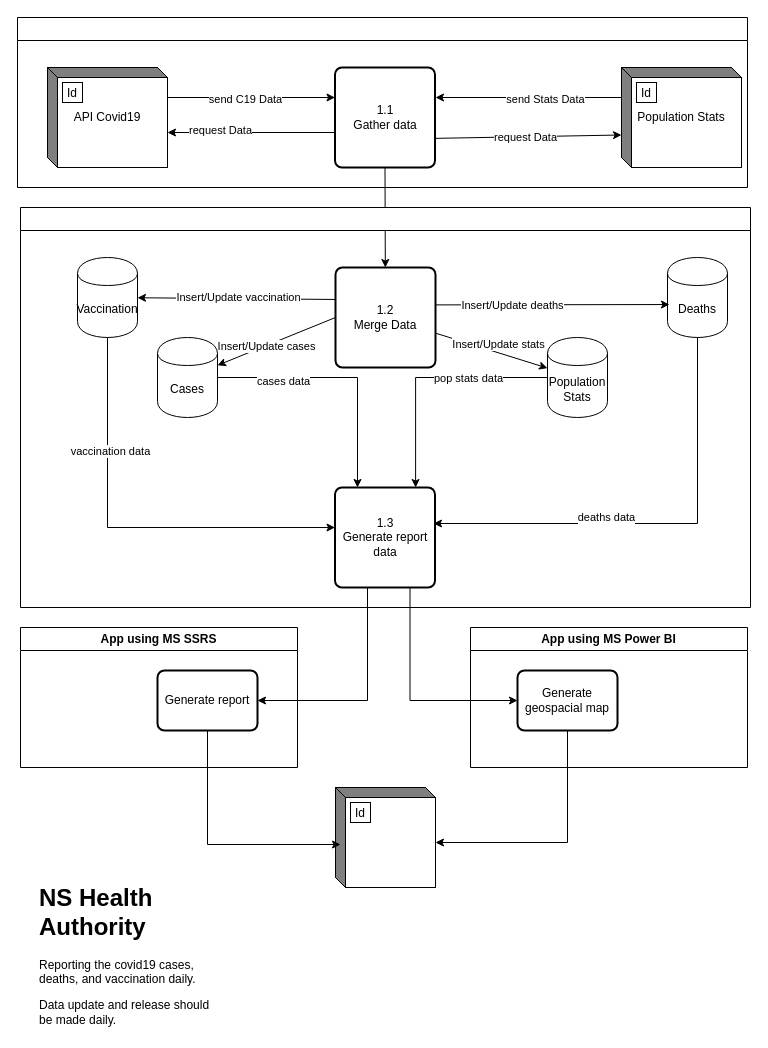
This 768x1048 diagram has some shape labels left out. The shapes that lost their labels are listed below. From the top down, each one's box as (x1, y1, x2, y2) in pixels, then its label:
(16, 16, 748, 188): Automation using R or Python
(20, 206, 750, 608): Automation using MS SSIS (scheduler)
(334, 786, 436, 888): Stakeholders
